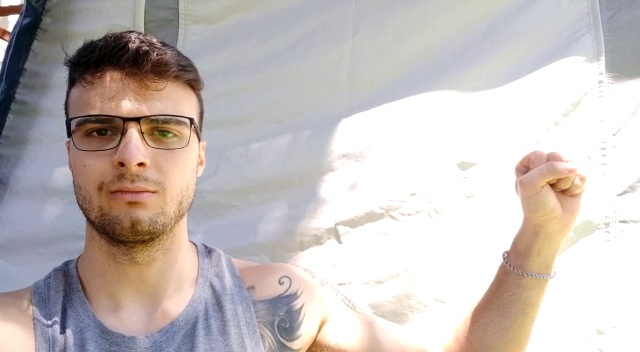Fist: (514, 145, 586, 241)
